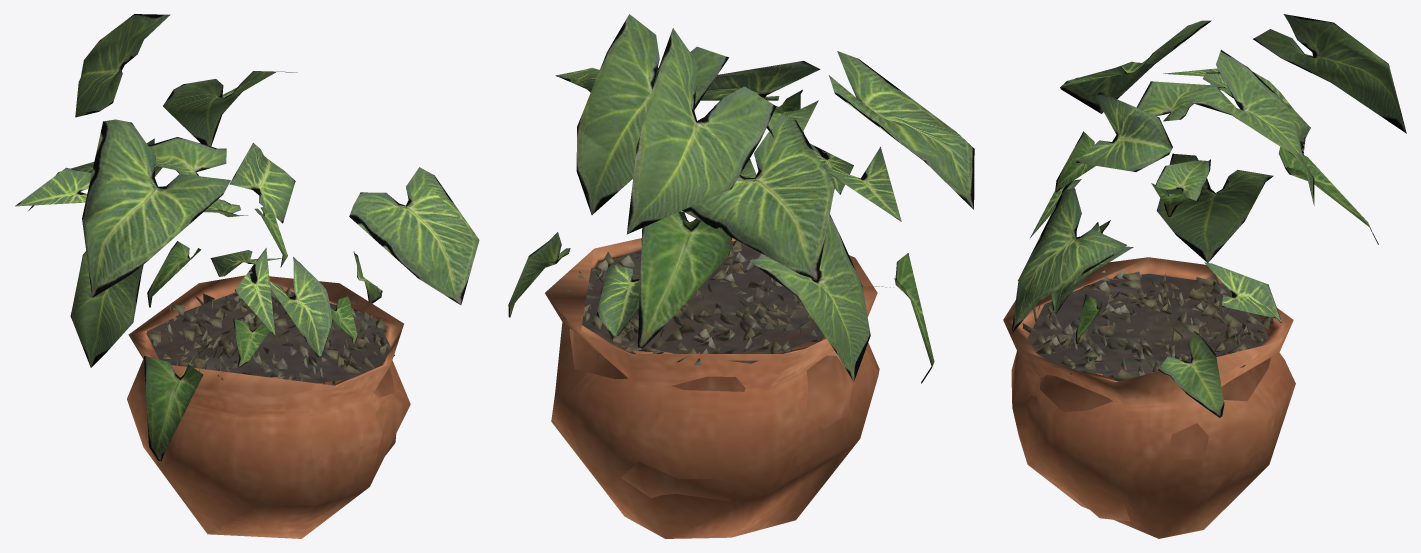
The model's file is potted_plant_02.glb.
3 views of the same model, side by side, from view 1: azimuth 30°, elevation 25°; view 2: azimuth 150°, elevation 25°; view 3: azimuth 270°, elevation 25° (orthographic). The views are drawn at different scales.
Visible parts, largest first — view 1: potted_plant_02_leaves, potted_plant_02_pot, potted_plant_02_dirt; view 2: potted_plant_02_leaves, potted_plant_02_pot, potted_plant_02_dirt; view 3: potted_plant_02_leaves, potted_plant_02_pot, potted_plant_02_dirt.
Boxes of the visible parts, x1,y1,x2,y2 form: potted_plant_02_leaves: (15,14,479,461); potted_plant_02_pot: (127,275,410,538); potted_plant_02_dirt: (146,286,394,384); potted_plant_02_leaves: (508,14,974,383); potted_plant_02_pot: (545,238,879,538); potted_plant_02_dirt: (562,240,824,365); potted_plant_02_leaves: (1011,14,1406,417); potted_plant_02_pot: (1003,257,1295,538); potted_plant_02_dirt: (1023,269,1273,380).
Size of the model in its own units: 0.6967 by 0.8397 by 0.6455.
2 materials, 2 textured.
